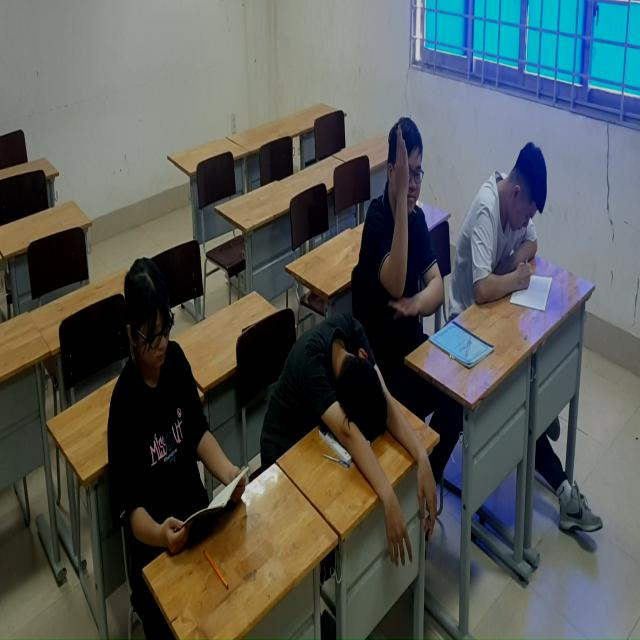raise_hand: (369, 113, 446, 333)
read: (106, 256, 253, 549), (466, 138, 559, 326)
sleep: (264, 309, 440, 560)
